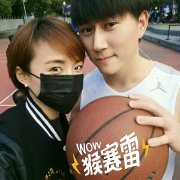face: (76, 1, 136, 74)
face_mask: (28, 41, 83, 113)
